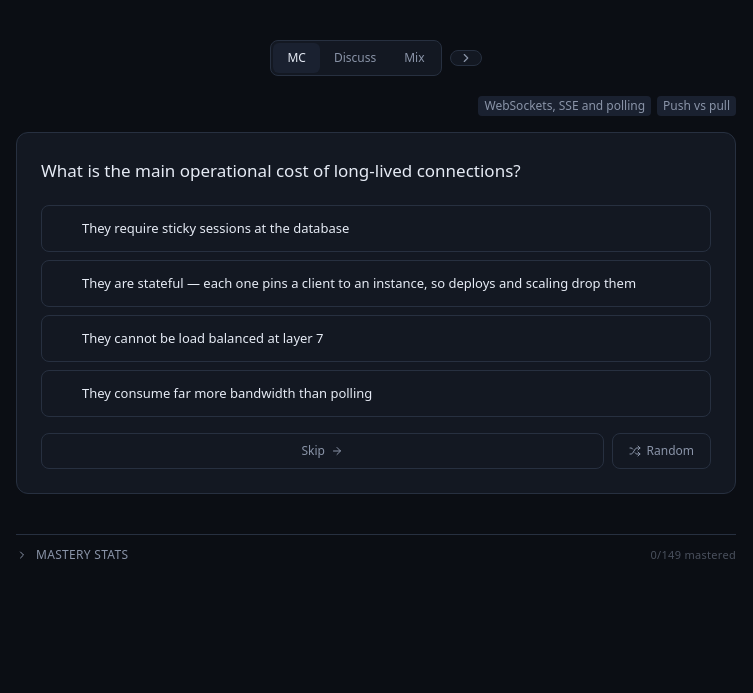
it: DrillSession › shows your answer beside the model answer on the flip, then offers grades
This screenshot has width=753, height=693.
Click the radio button labelled "Discuss" at (355, 58), box [320,43,390,73]
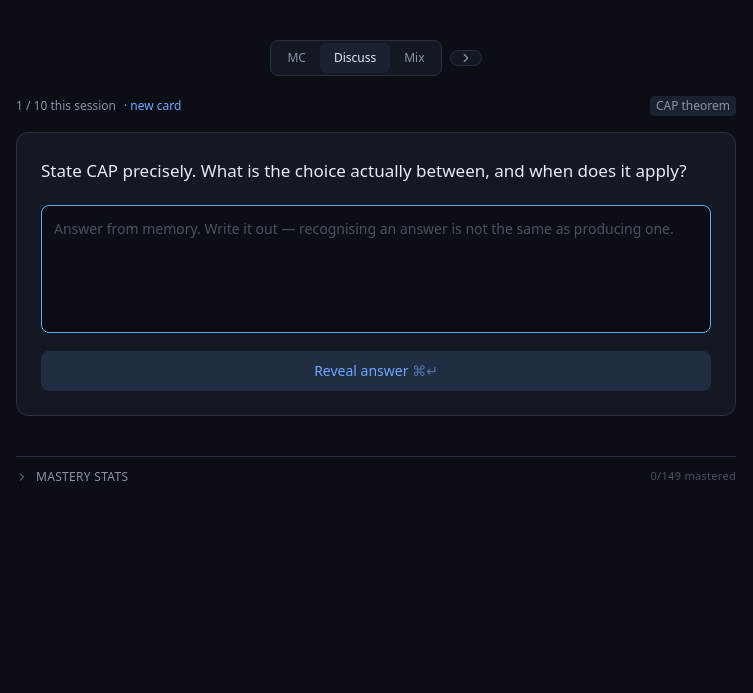
expect the text box is shown: met
Type "my attempt at the answer" into the text box at (376, 269), box [41,205,711,333]
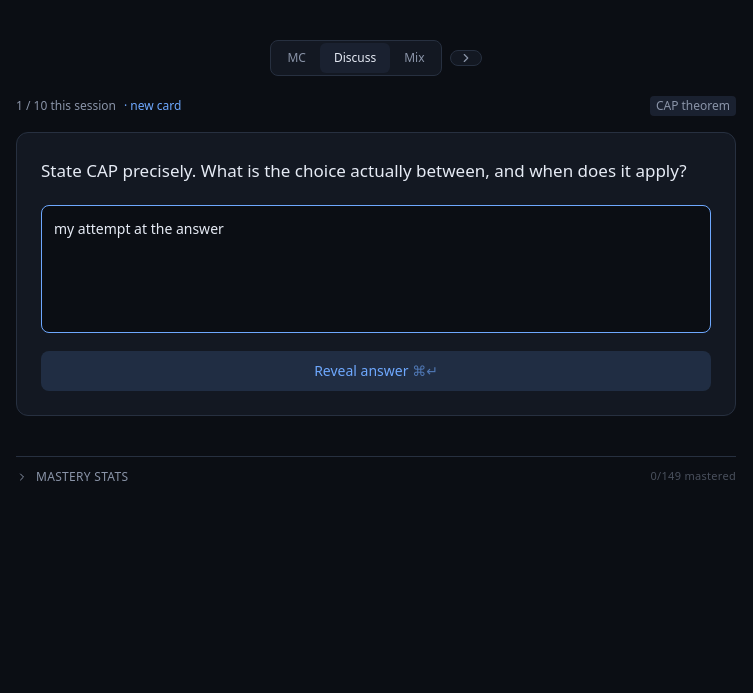
Click the button "Reveal answer ⌘↵" at (376, 371), box [41,351,711,391]
(page scrolled)
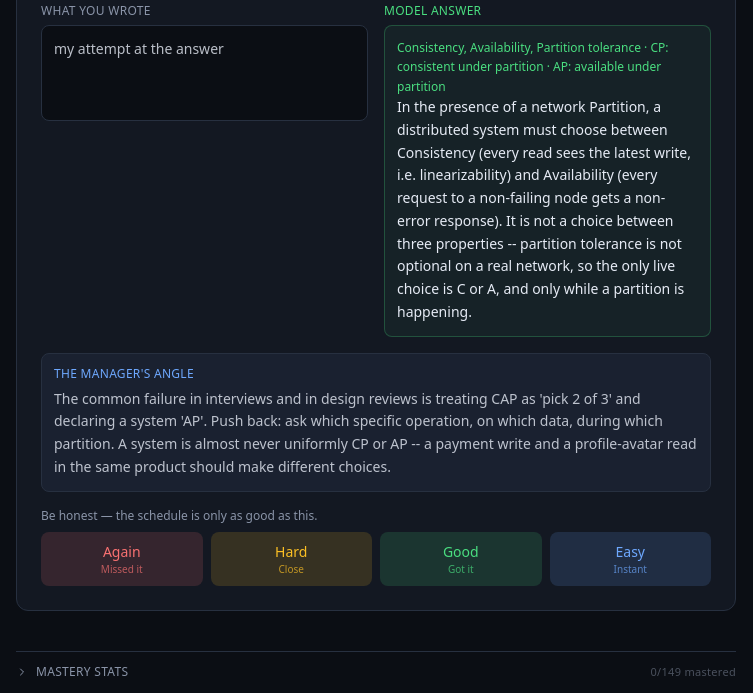
expect the heading "What you wrote" is shown: met, box [41,2,151,19]
expect the text "my attempt at the answer" is shown: met, box [41,25,368,121]
expect the heading "Model answer" is shown: met, box [384,2,481,19]
